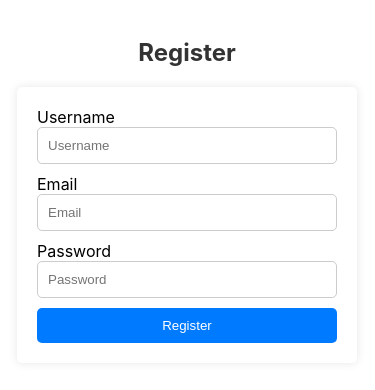
Test: Register Component › shows error when username already exists
Type "testuser" into the field labelled "Username".
click(187, 146); type("testuser")  # box [37,128,337,164]
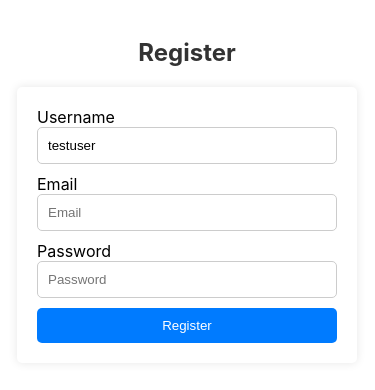
Type "testuser@example.com" into the field labelled "Email".
click(187, 213); type("testuser@example.com")  # box [37,194,337,232]
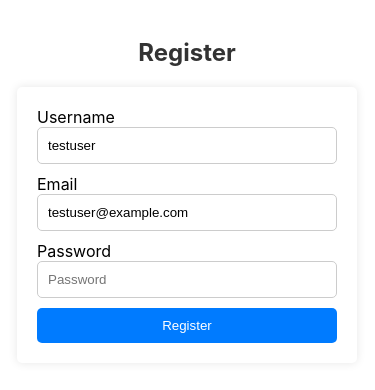
Type "password123" into the password field labelled "Password".
click(187, 280); type("password123")  # box [37,262,337,298]
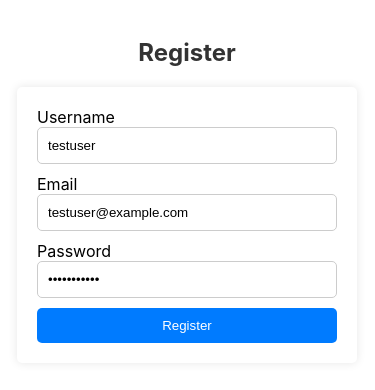
Click the button "Register".
click(187, 326)  # box [37,308,337,344]
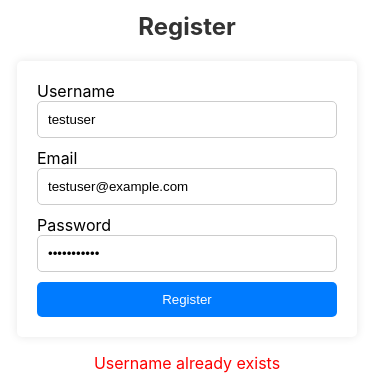
Expected: the text "Username already exists" is shown, [94,354,280,374]
